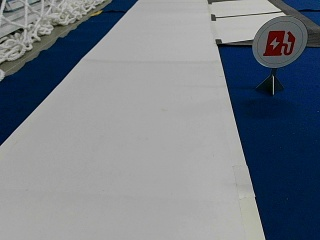battery: (252, 15, 308, 69)
